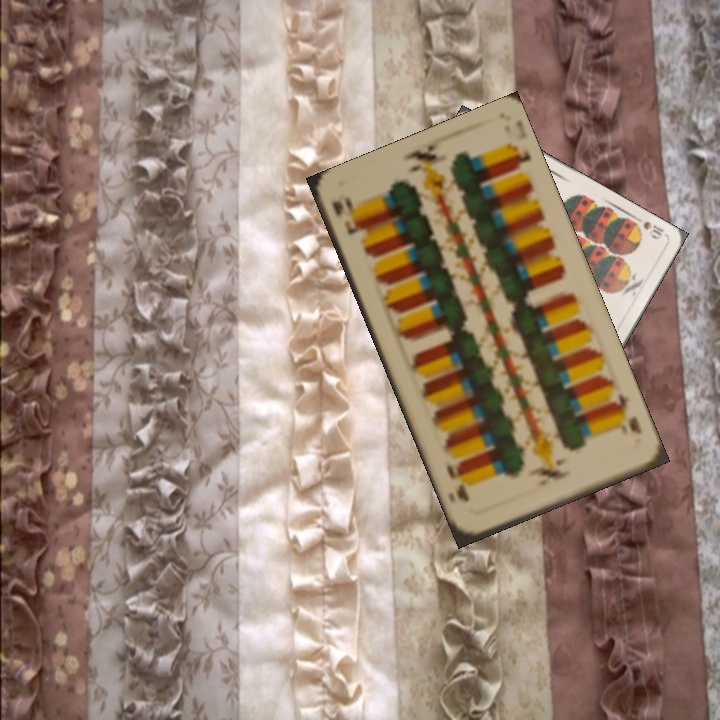E10: (607, 389, 644, 439), (328, 192, 364, 239)
S10: (630, 217, 667, 242)
